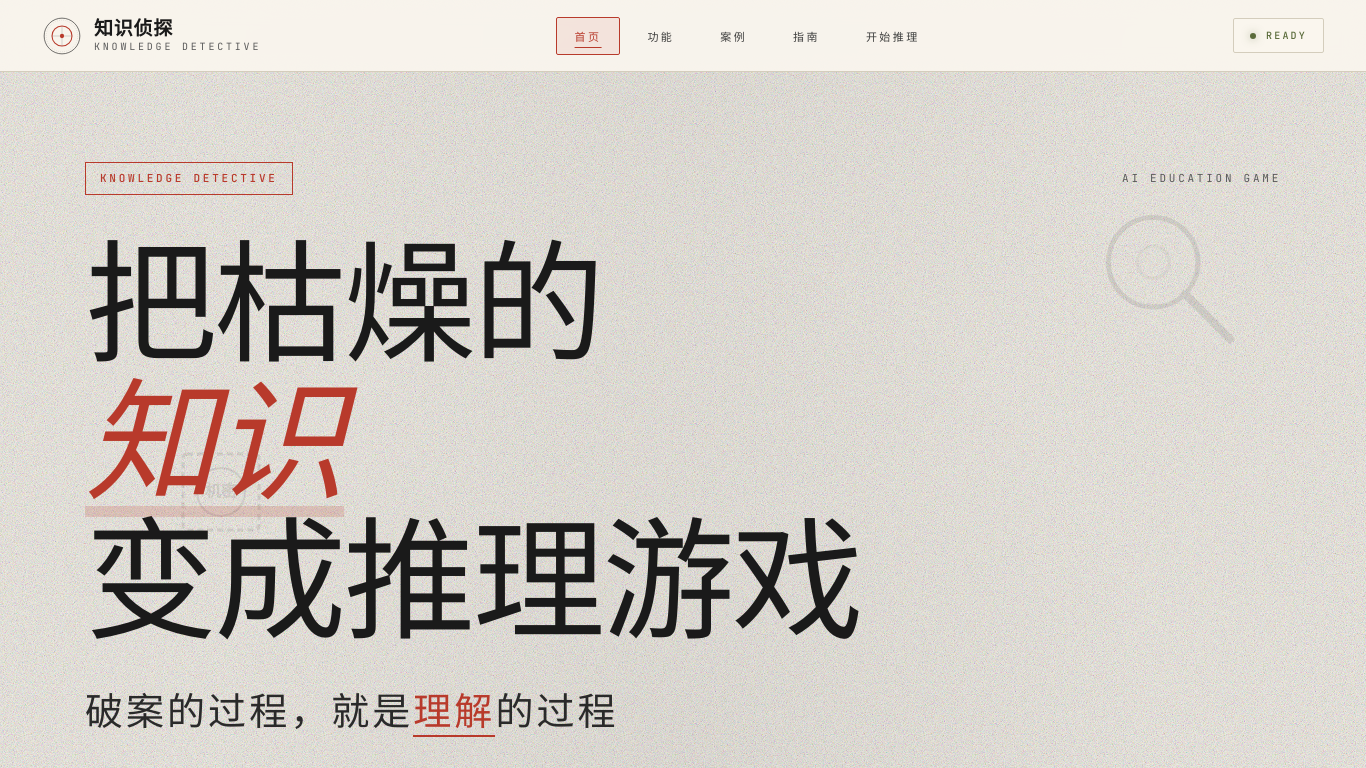
Scenario: App 组件 › 点击案例导航可显示精选案卷列表
Click the button "案例": (734,36) [701,16,766,54]
(page scrolled)
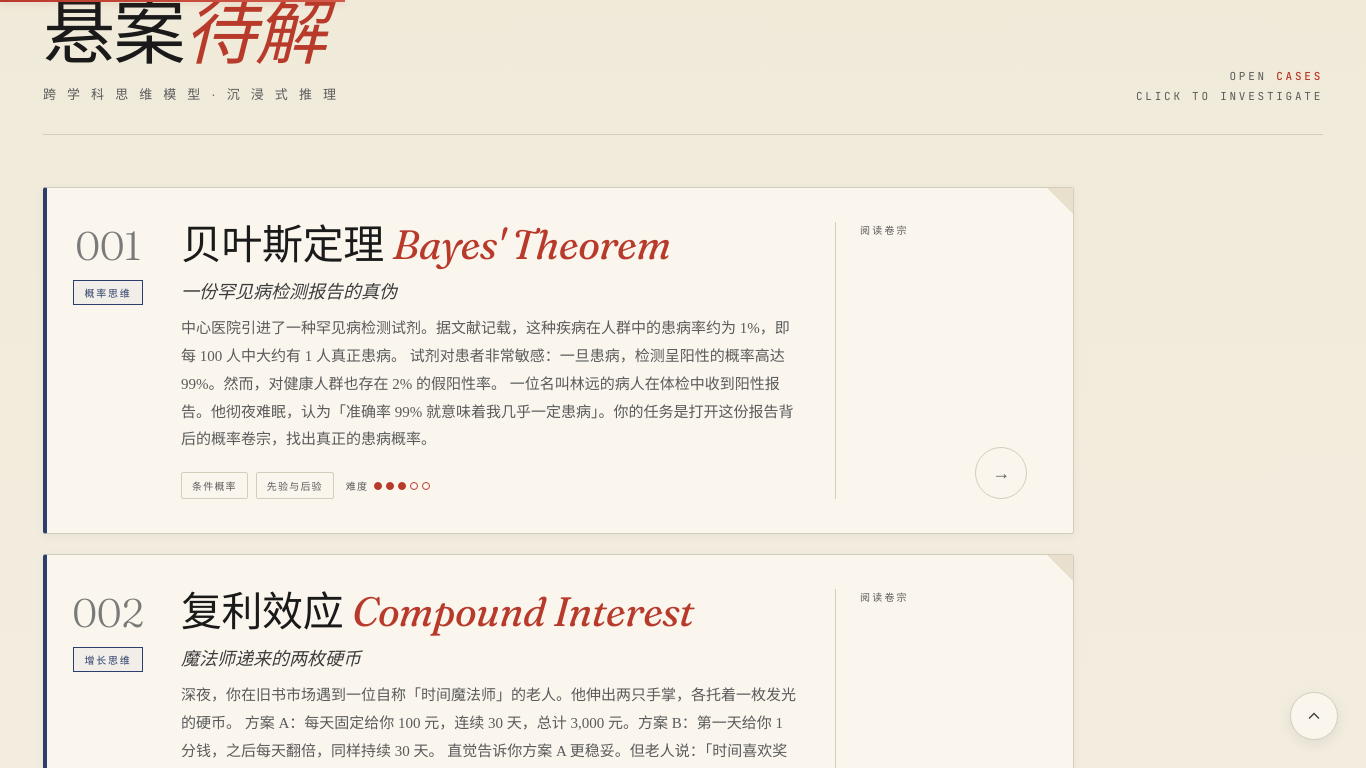
Now the button "贝叶斯定理" is shown, box [43,187,1074,534]
